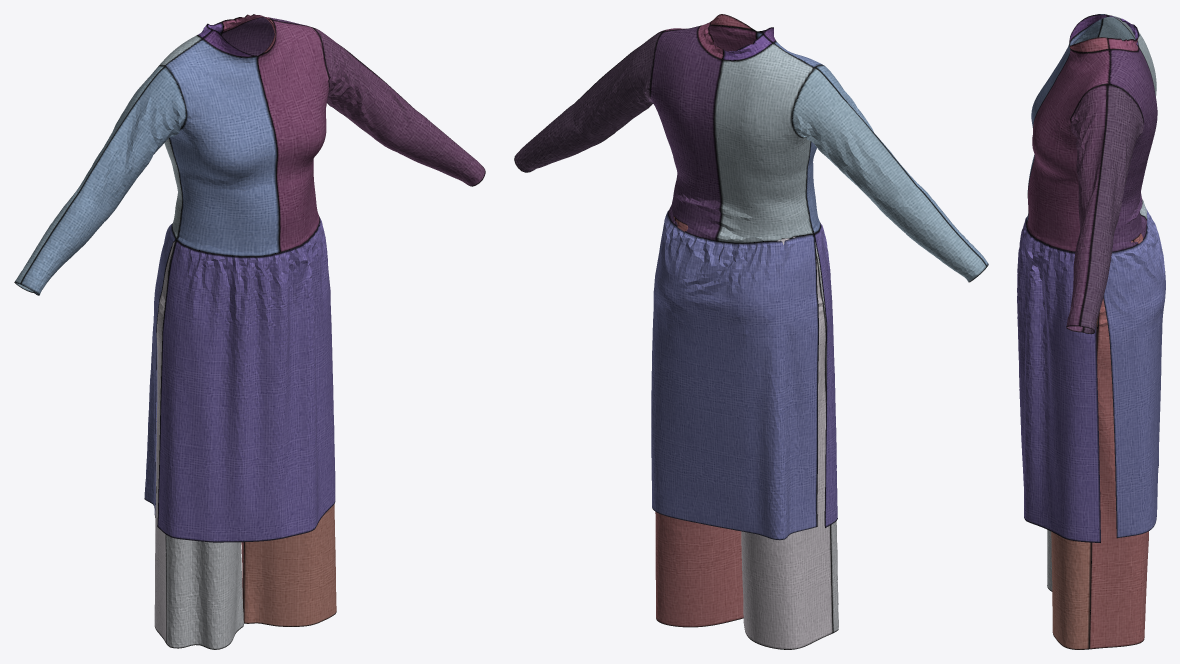
File: ao_dai_sim.obj
3 views of the same model, side by side, from view 1: azimuth 30°, elevation 25°; view 2: azimuth 150°, elevation 25°; view 3: azimuth 270°, elevation 25° (orthographic).
Bounding box in the file's own units: 113 × 139 × 31.89.
1 material, 1 textured.
